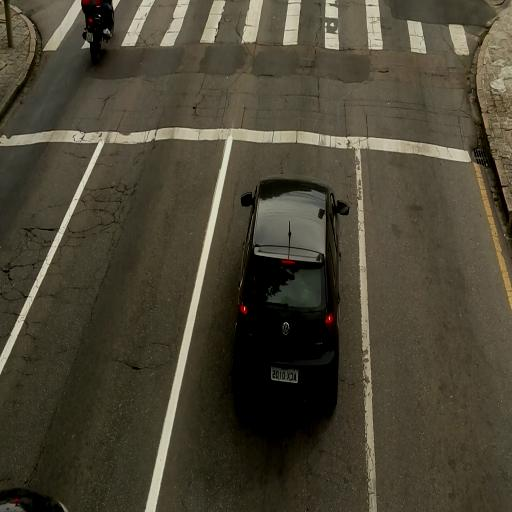car: (233, 177, 350, 407), (0, 487, 70, 512)
motorcycle: (76, 0, 118, 67)
